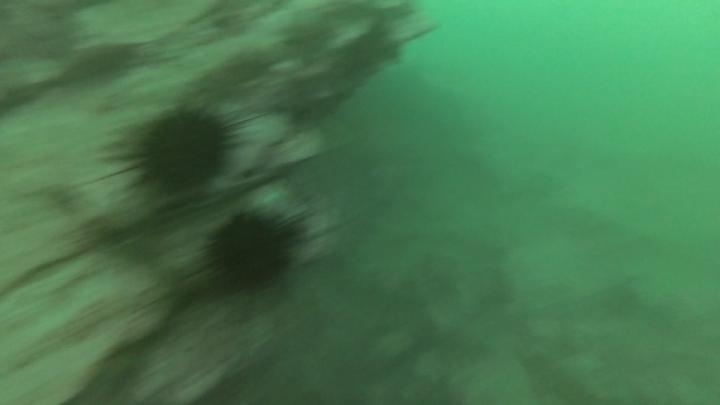echinus: (121, 105, 242, 198), (201, 206, 311, 296)
